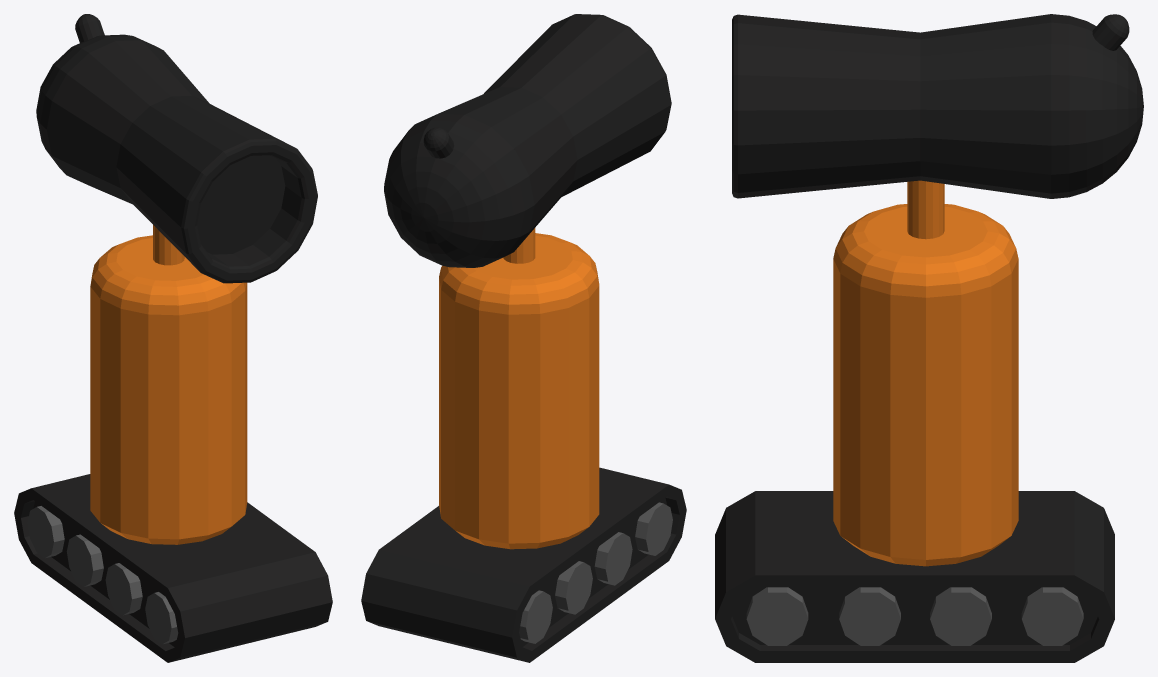
File: player.fbx
3 renders of one model, left to right at view 1: azimuth 30°, elevation 25°; view 2: azimuth 150°, elevation 25°; view 3: azimuth 270°, elevation 25°, orthographic. The views are drawn at different scales.
Visible parts, largest first — view 1: body, head, Cylinder, Cylinder.004; view 2: body, head, Cylinder, Cylinder.004; view 3: head, body, Cylinder, Cylinder.004.
Part boxes in pixels (x1=…): body: x1=90, y1=225, x2=247, y2=544; head: x1=36, y1=14, x2=317, y2=283; Cylinder: x1=14, y1=474, x2=332, y2=662; Cylinder.004: x1=27, y1=506, x2=178, y2=644; body: x1=439, y1=228, x2=599, y2=549; head: x1=384, y1=14, x2=671, y2=267; Cylinder: x1=361, y1=467, x2=686, y2=662; Cylinder.004: x1=519, y1=502, x2=672, y2=643; head: x1=732, y1=14, x2=1143, y2=198; body: x1=833, y1=180, x2=1018, y2=566; Cylinder: x1=715, y1=491, x2=1114, y2=662; Cylinder.004: x1=746, y1=587, x2=1083, y2=645.
Size of the model in its own units: 125 by 418 by 269.
